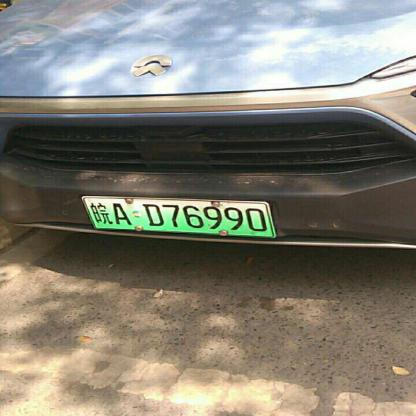lp: (83, 197, 273, 237)
